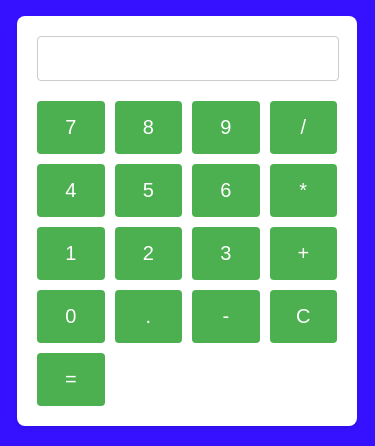
Scenario: Calculator Component › should update input value when buttons are clicked
The width and height of the screenshot is (375, 446).
Click the button "7" at (71, 128), box x1=37 y1=101 x2=104 y2=154
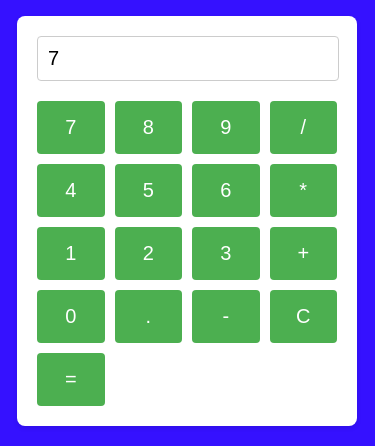
Result: the field showing "7" is shown at x1=37 y1=36 x2=339 y2=81
Click the button "+" at (303, 254), box x1=270 y1=227 x2=337 y2=280
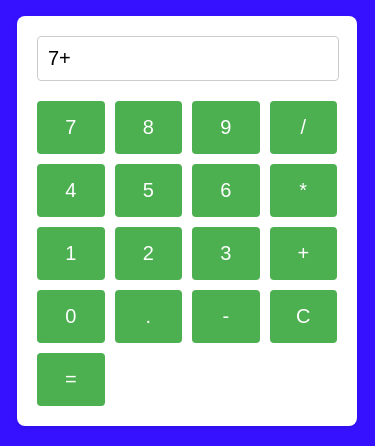
Result: the field showing "7+" is shown at x1=37 y1=36 x2=339 y2=81
Click the button "3" at (226, 254), box x1=192 y1=227 x2=260 y2=280
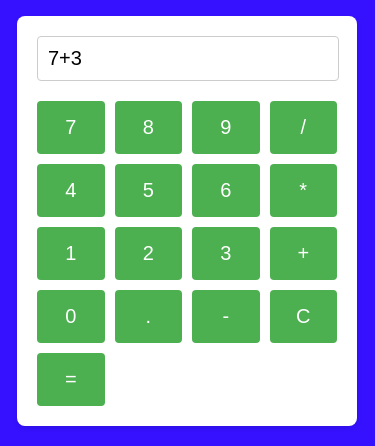
Result: the field showing "7+3" is shown at x1=37 y1=36 x2=339 y2=81
